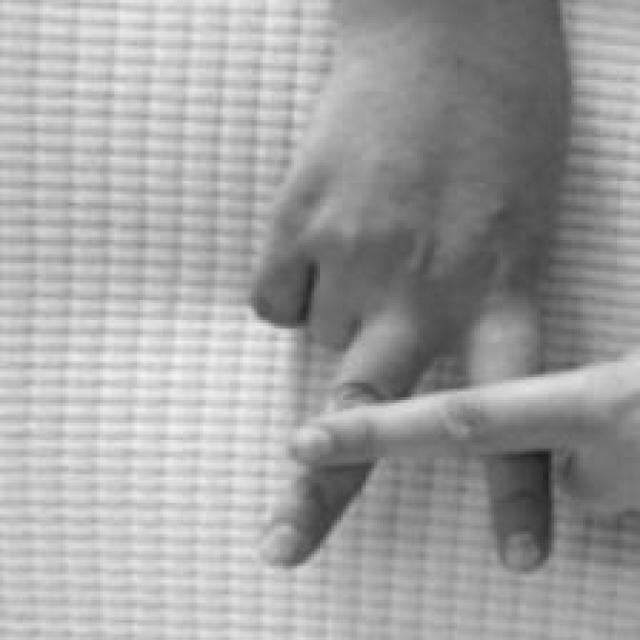A: (251, 89, 640, 575)
